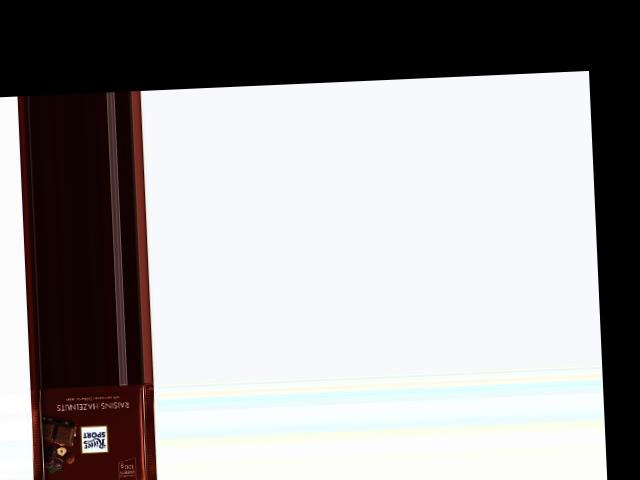chocolate: (27, 382, 157, 480)
